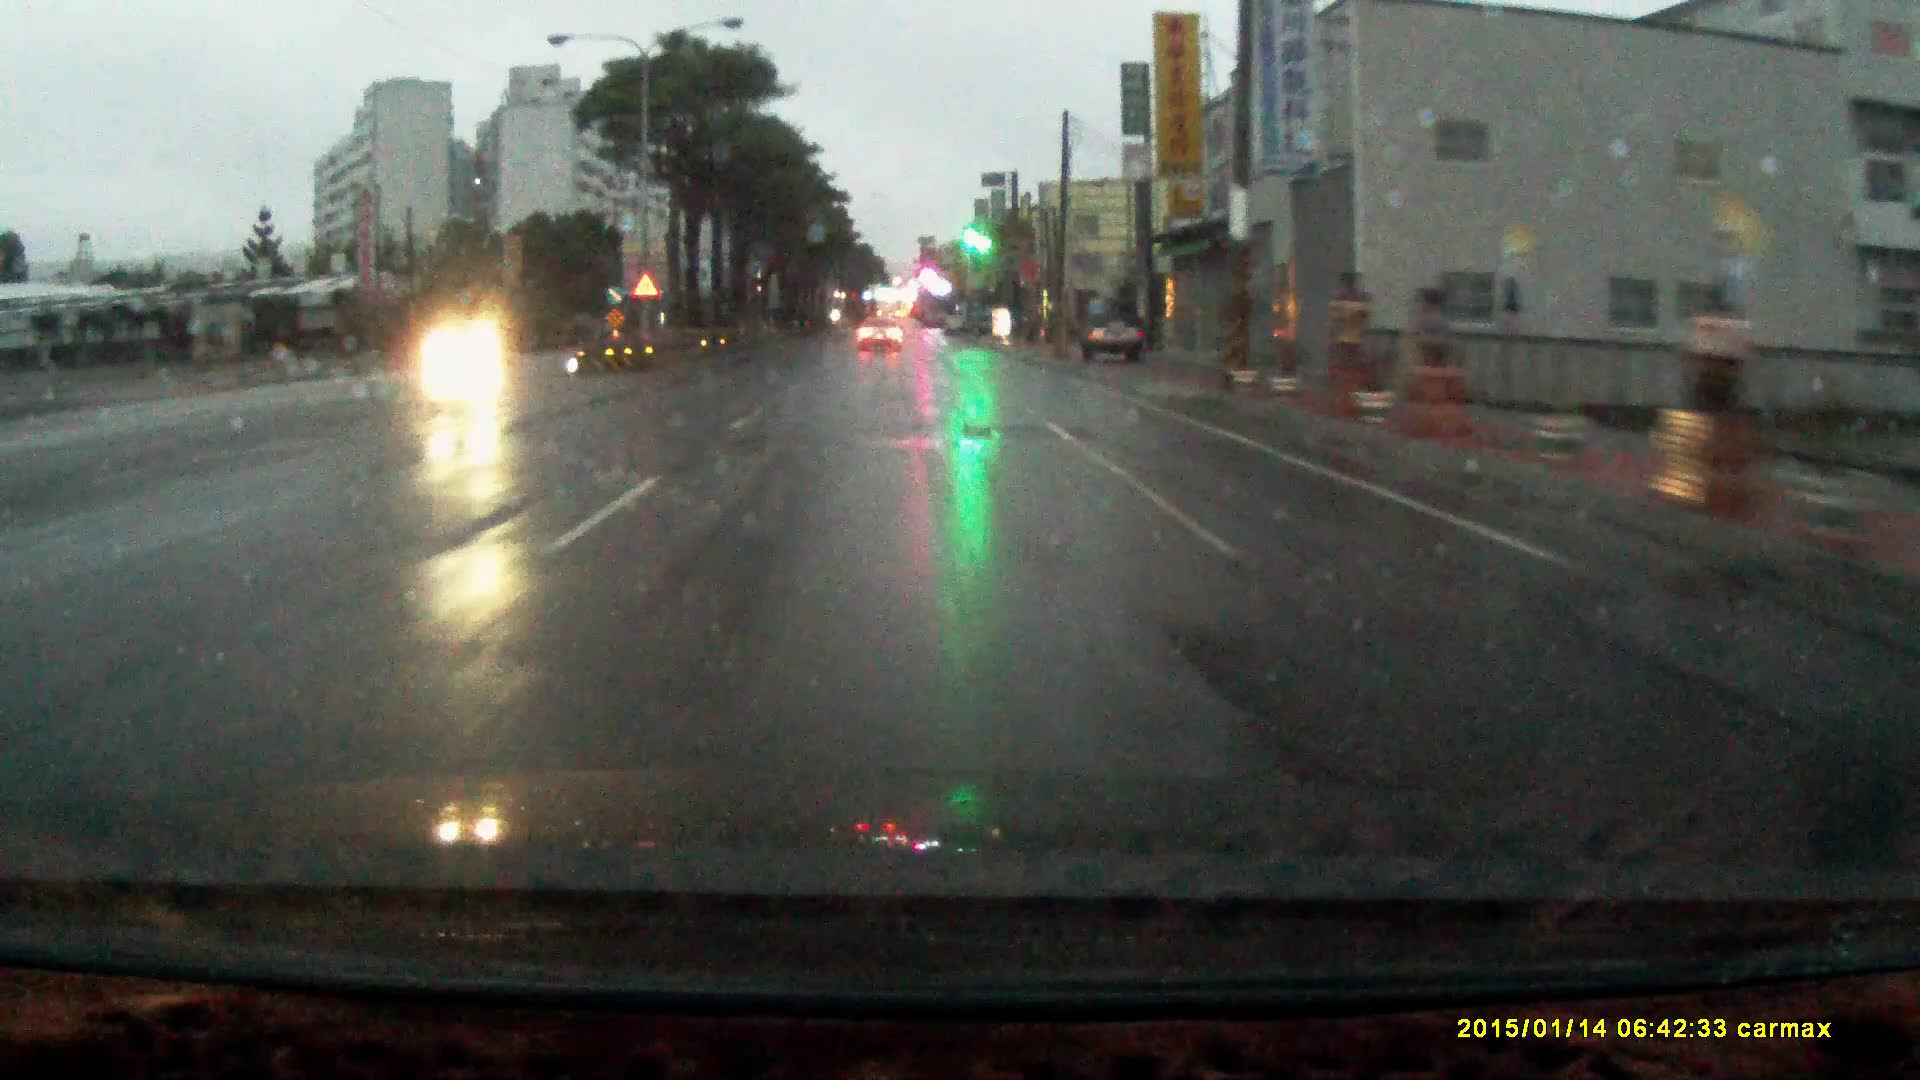vehicle: (1083, 284, 1149, 348), (858, 303, 906, 340)
